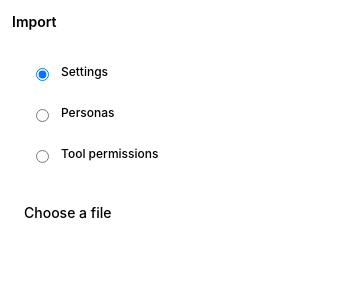
Test case: an unrelated JSON file is refused before its kind is considered
Click the button "Choose a file" at (68, 213), box [12,195,123,231]
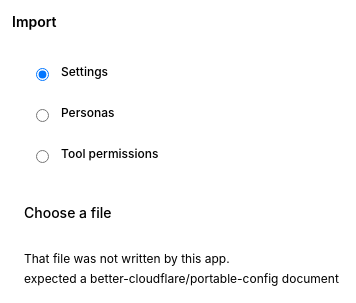
Expected: the message with test id "portable-import-rejection" shows "was not written by this app", [24,251,230,266]
